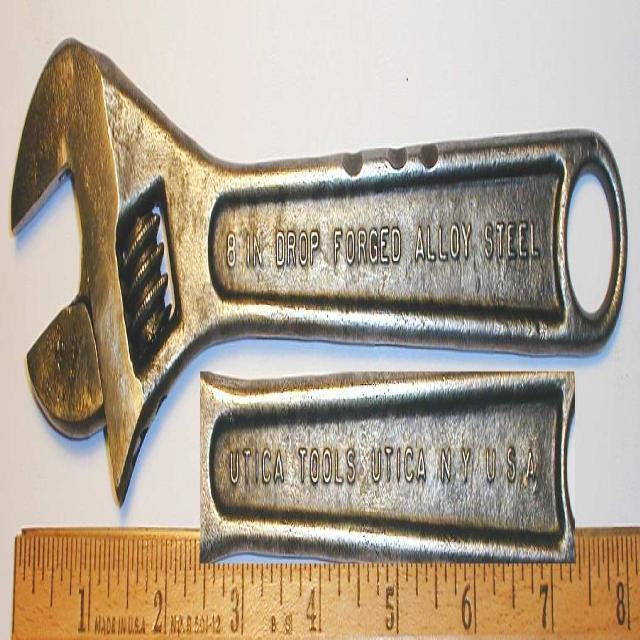wrench: (6, 26, 628, 506)
